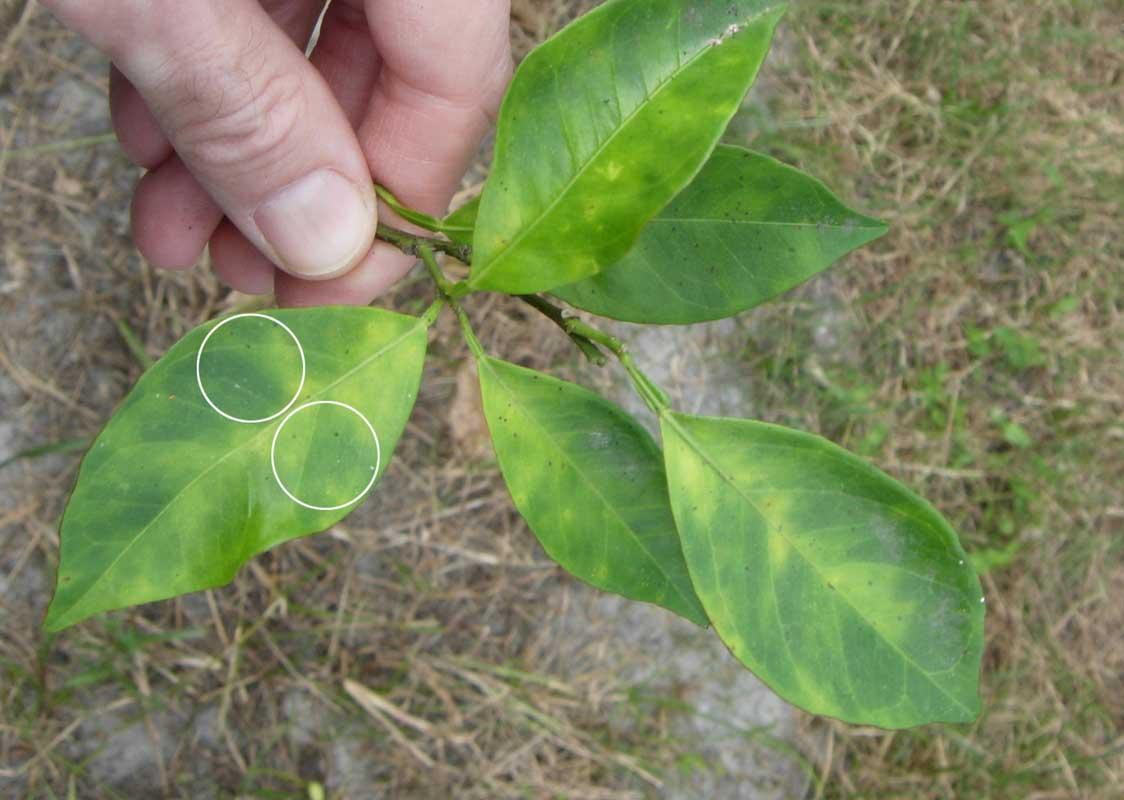Citrus Greening: (61, 323, 438, 615), (662, 410, 1008, 719), (448, 0, 777, 298), (483, 354, 748, 610), (578, 135, 871, 305)
